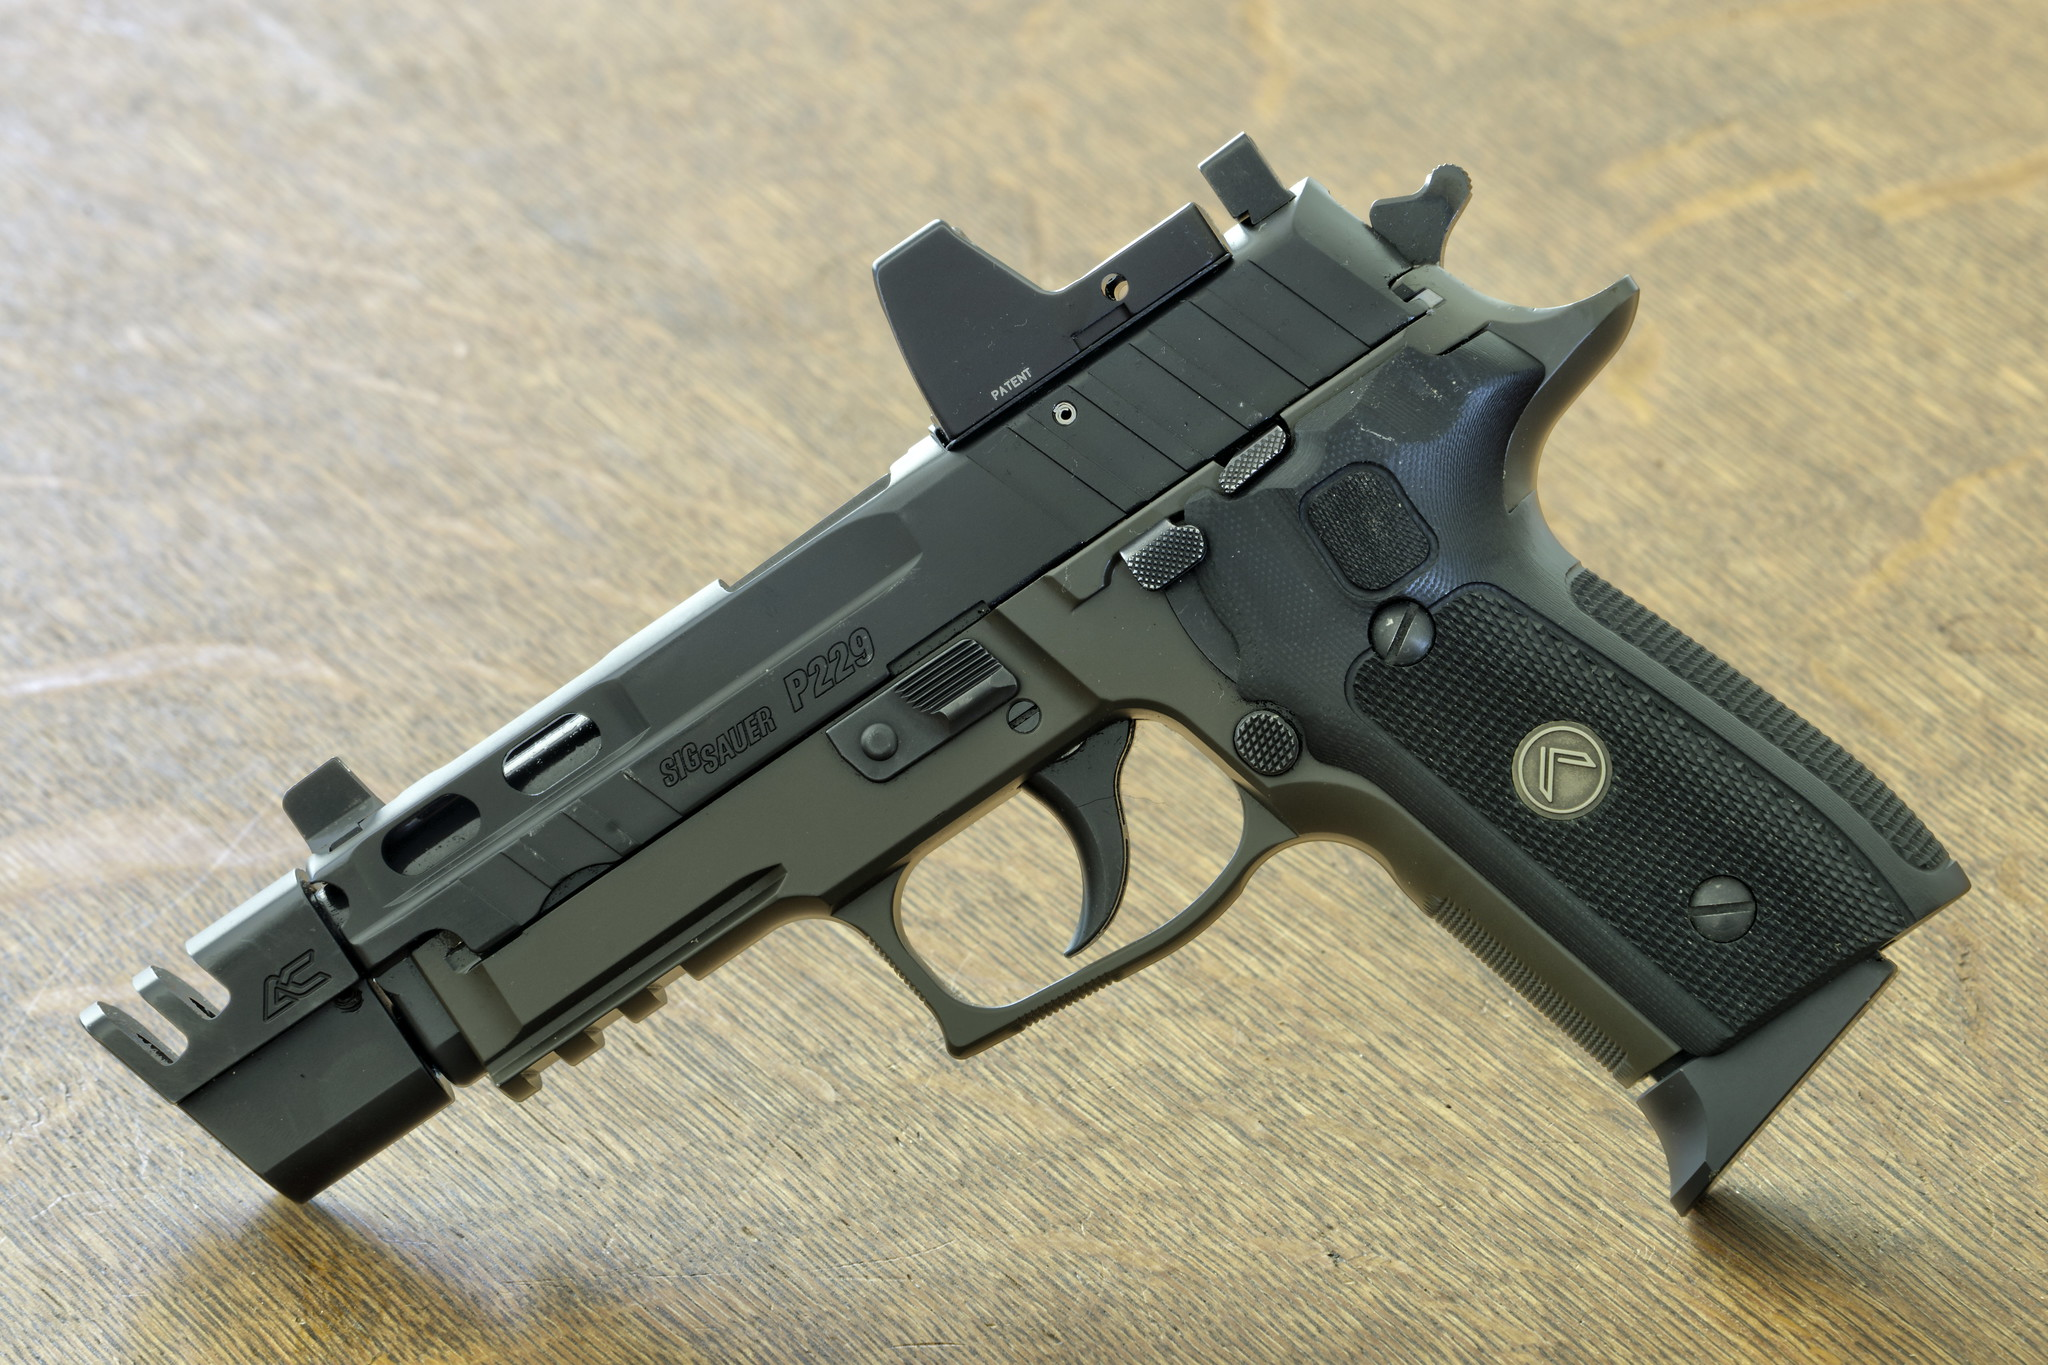gun: (70, 110, 1979, 1243)
